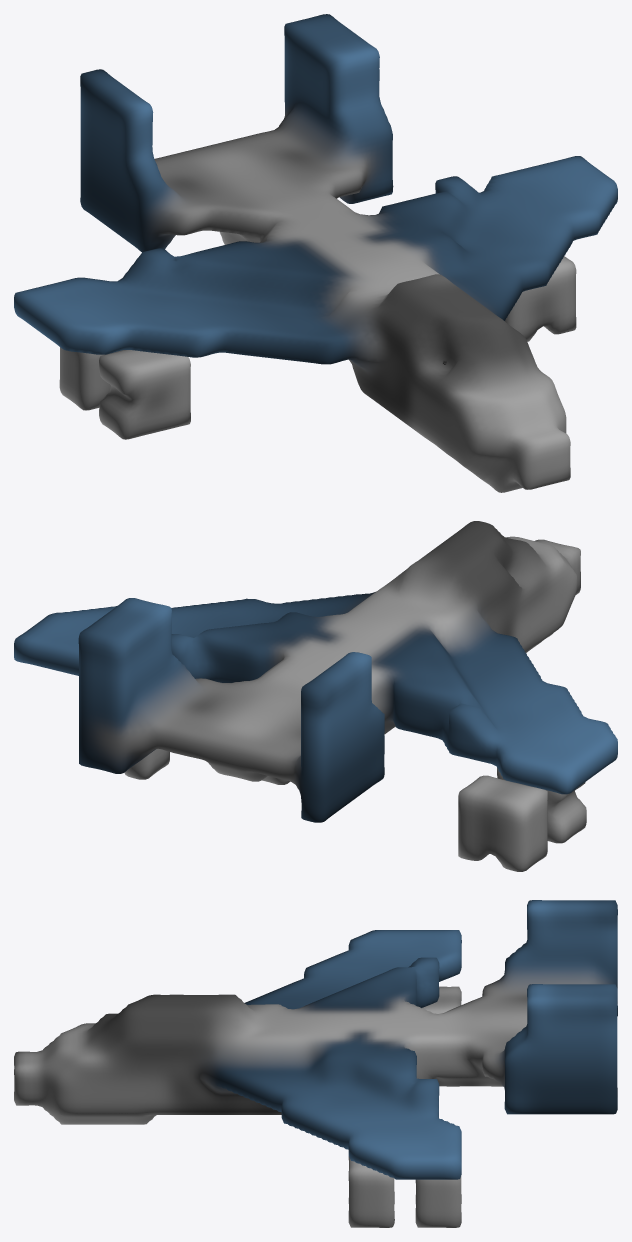
The model's file is hornet_fighter.glb.
The picture shows the model from 3 angles, top to bottom: view 1: azimuth 30°, elevation 25°; view 2: azimuth 150°, elevation 25°; view 3: azimuth 270°, elevation 25°; orthographic projection. The views are drawn at different scales.
Parts seen in each view (by area): view 1: hornet_fighter; view 2: hornet_fighter; view 3: hornet_fighter.
Boxes of the visible parts, <box> form: hornet_fighter: <box>14,14,617,492</box>; hornet_fighter: <box>14,521,617,871</box>; hornet_fighter: <box>14,900,617,1227</box>.
Size of the model in its own units: 2.01 by 0.7701 by 2.2.
